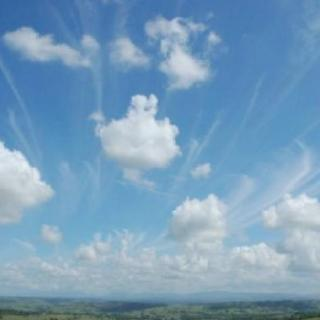Cumulus: (0, 0, 320, 306)
